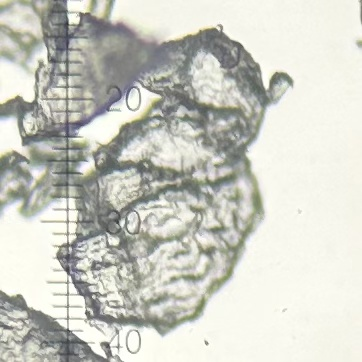microplastic: (53, 23, 298, 336), (1, 9, 170, 147), (1, 288, 127, 362), (19, 141, 94, 222), (35, 1, 71, 66), (1, 150, 35, 212)
